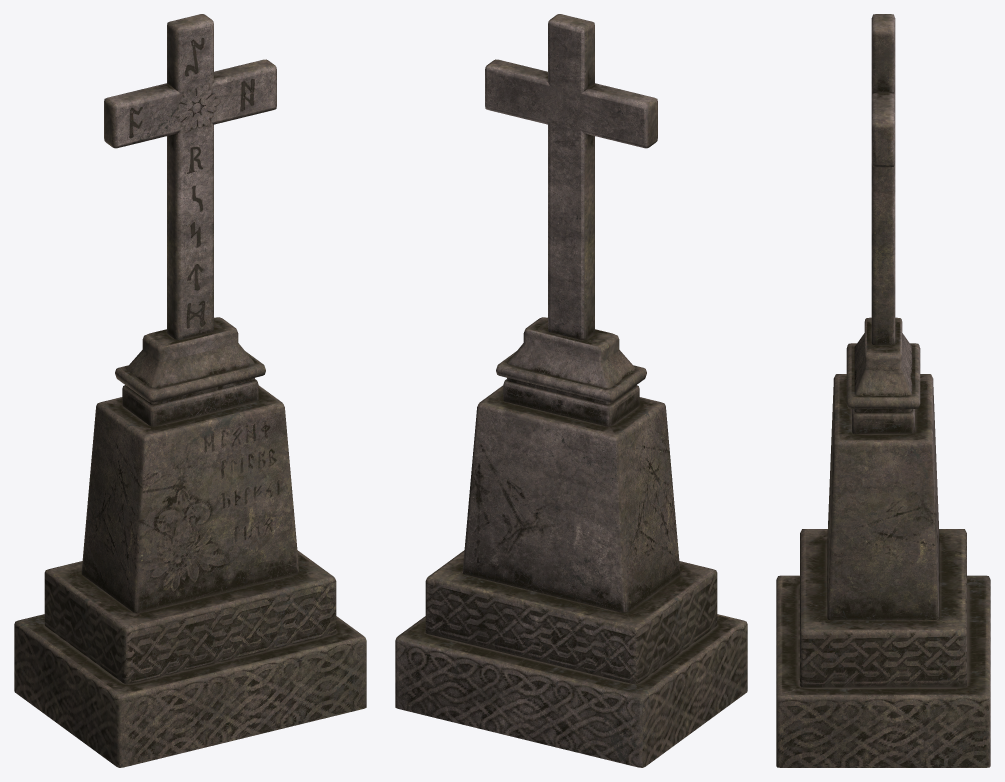
File: SM_gravestone_36.fbx
3 renders of one model, left to right at view 1: azimuth 30°, elevation 25°; view 2: azimuth 150°, elevation 25°; view 3: azimuth 270°, elevation 25°, orthographic.
Parts seen in each view (by area): view 1: SM_gravestone_036; view 2: SM_gravestone_036; view 3: SM_gravestone_036.
Boxes of the visible parts, bbox=[...] form: SM_gravestone_036: bbox=[14, 14, 366, 767]; SM_gravestone_036: bbox=[395, 14, 747, 767]; SM_gravestone_036: bbox=[776, 14, 990, 767].
Bounding box in the file's own units: 44.15 × 115 × 32.62.
